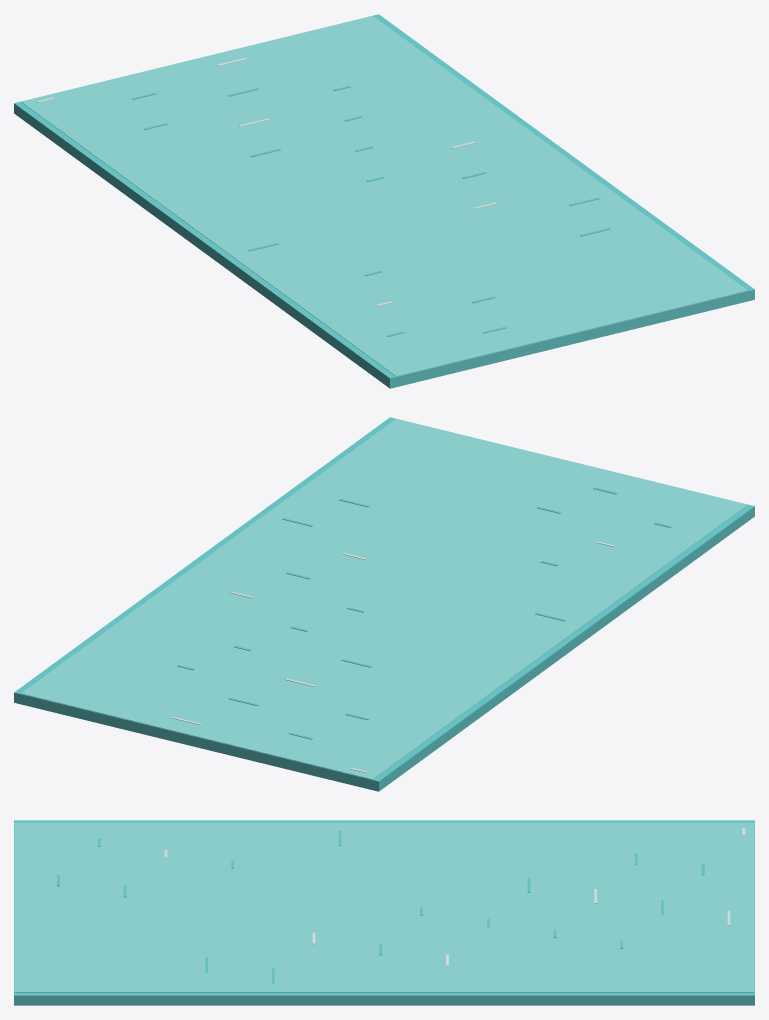
File: rio_tramo.glb
3 renders of one model, top to bottom at view 1: azimuth 30°, elevation 25°; view 2: azimuth 150°, elevation 25°; view 3: azimuth 270°, elevation 25°, orthographic.
Parts seen in each view (by area): view 1: rio_tramo; view 2: rio_tramo; view 3: rio_tramo.
Boxes of the visible parts, x1,y1,x2,y2 form: rio_tramo: (14, 14, 754, 388); rio_tramo: (14, 417, 754, 791); rio_tramo: (14, 820, 754, 1005).
Size of the model in its own units: 11.2 by 0.3305 by 20.
